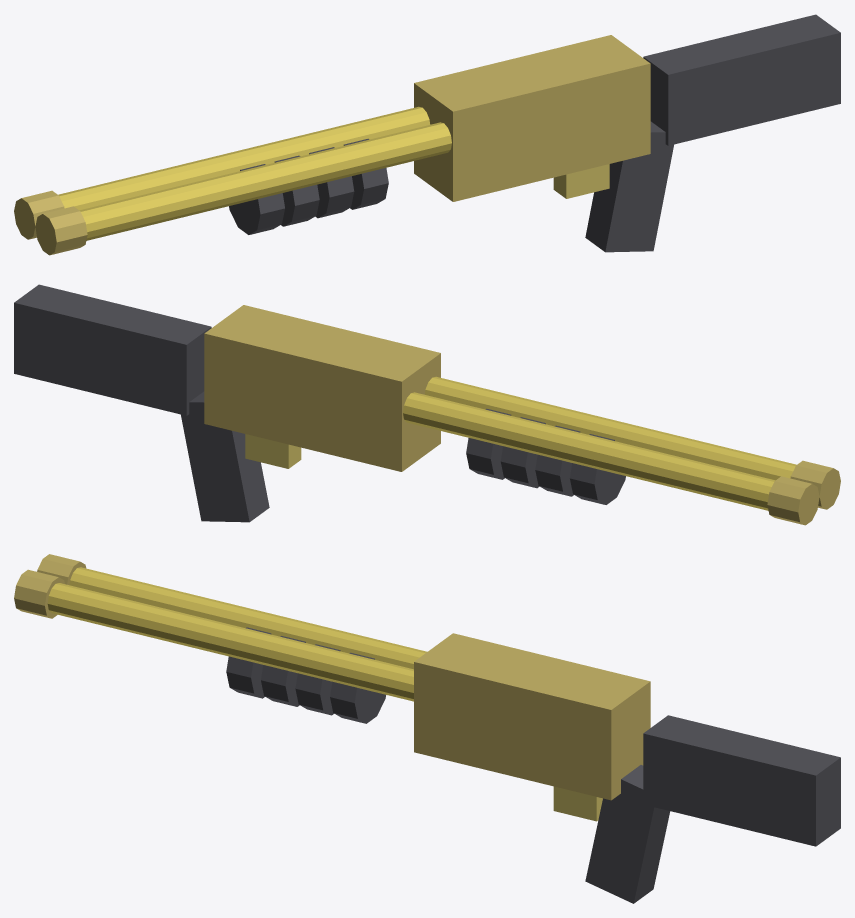
File: gunes_cift_pompali.glb
3 renders of one model, top to bottom at view 1: azimuth 30°, elevation 25°; view 2: azimuth 150°, elevation 25°; view 3: azimuth 330°, elevation 25°, orthographic.
Visible parts, largest first — view 1: geometry_0; view 2: geometry_0; view 3: geometry_0.
Boxes of the visible parts, box(x1,y1,x2,y2) form: geometry_0: box(14, 14, 840, 255); geometry_0: box(14, 284, 840, 525); geometry_0: box(14, 554, 840, 903).
Bounding box in the file's own units: 0.6425 × 0.1532 × 0.06.
